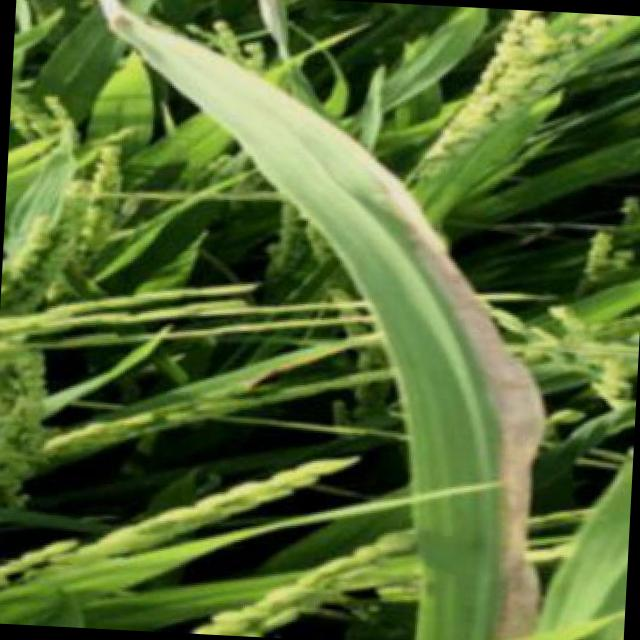Rice_Bacterial_Blight: (365, 231, 551, 640)
